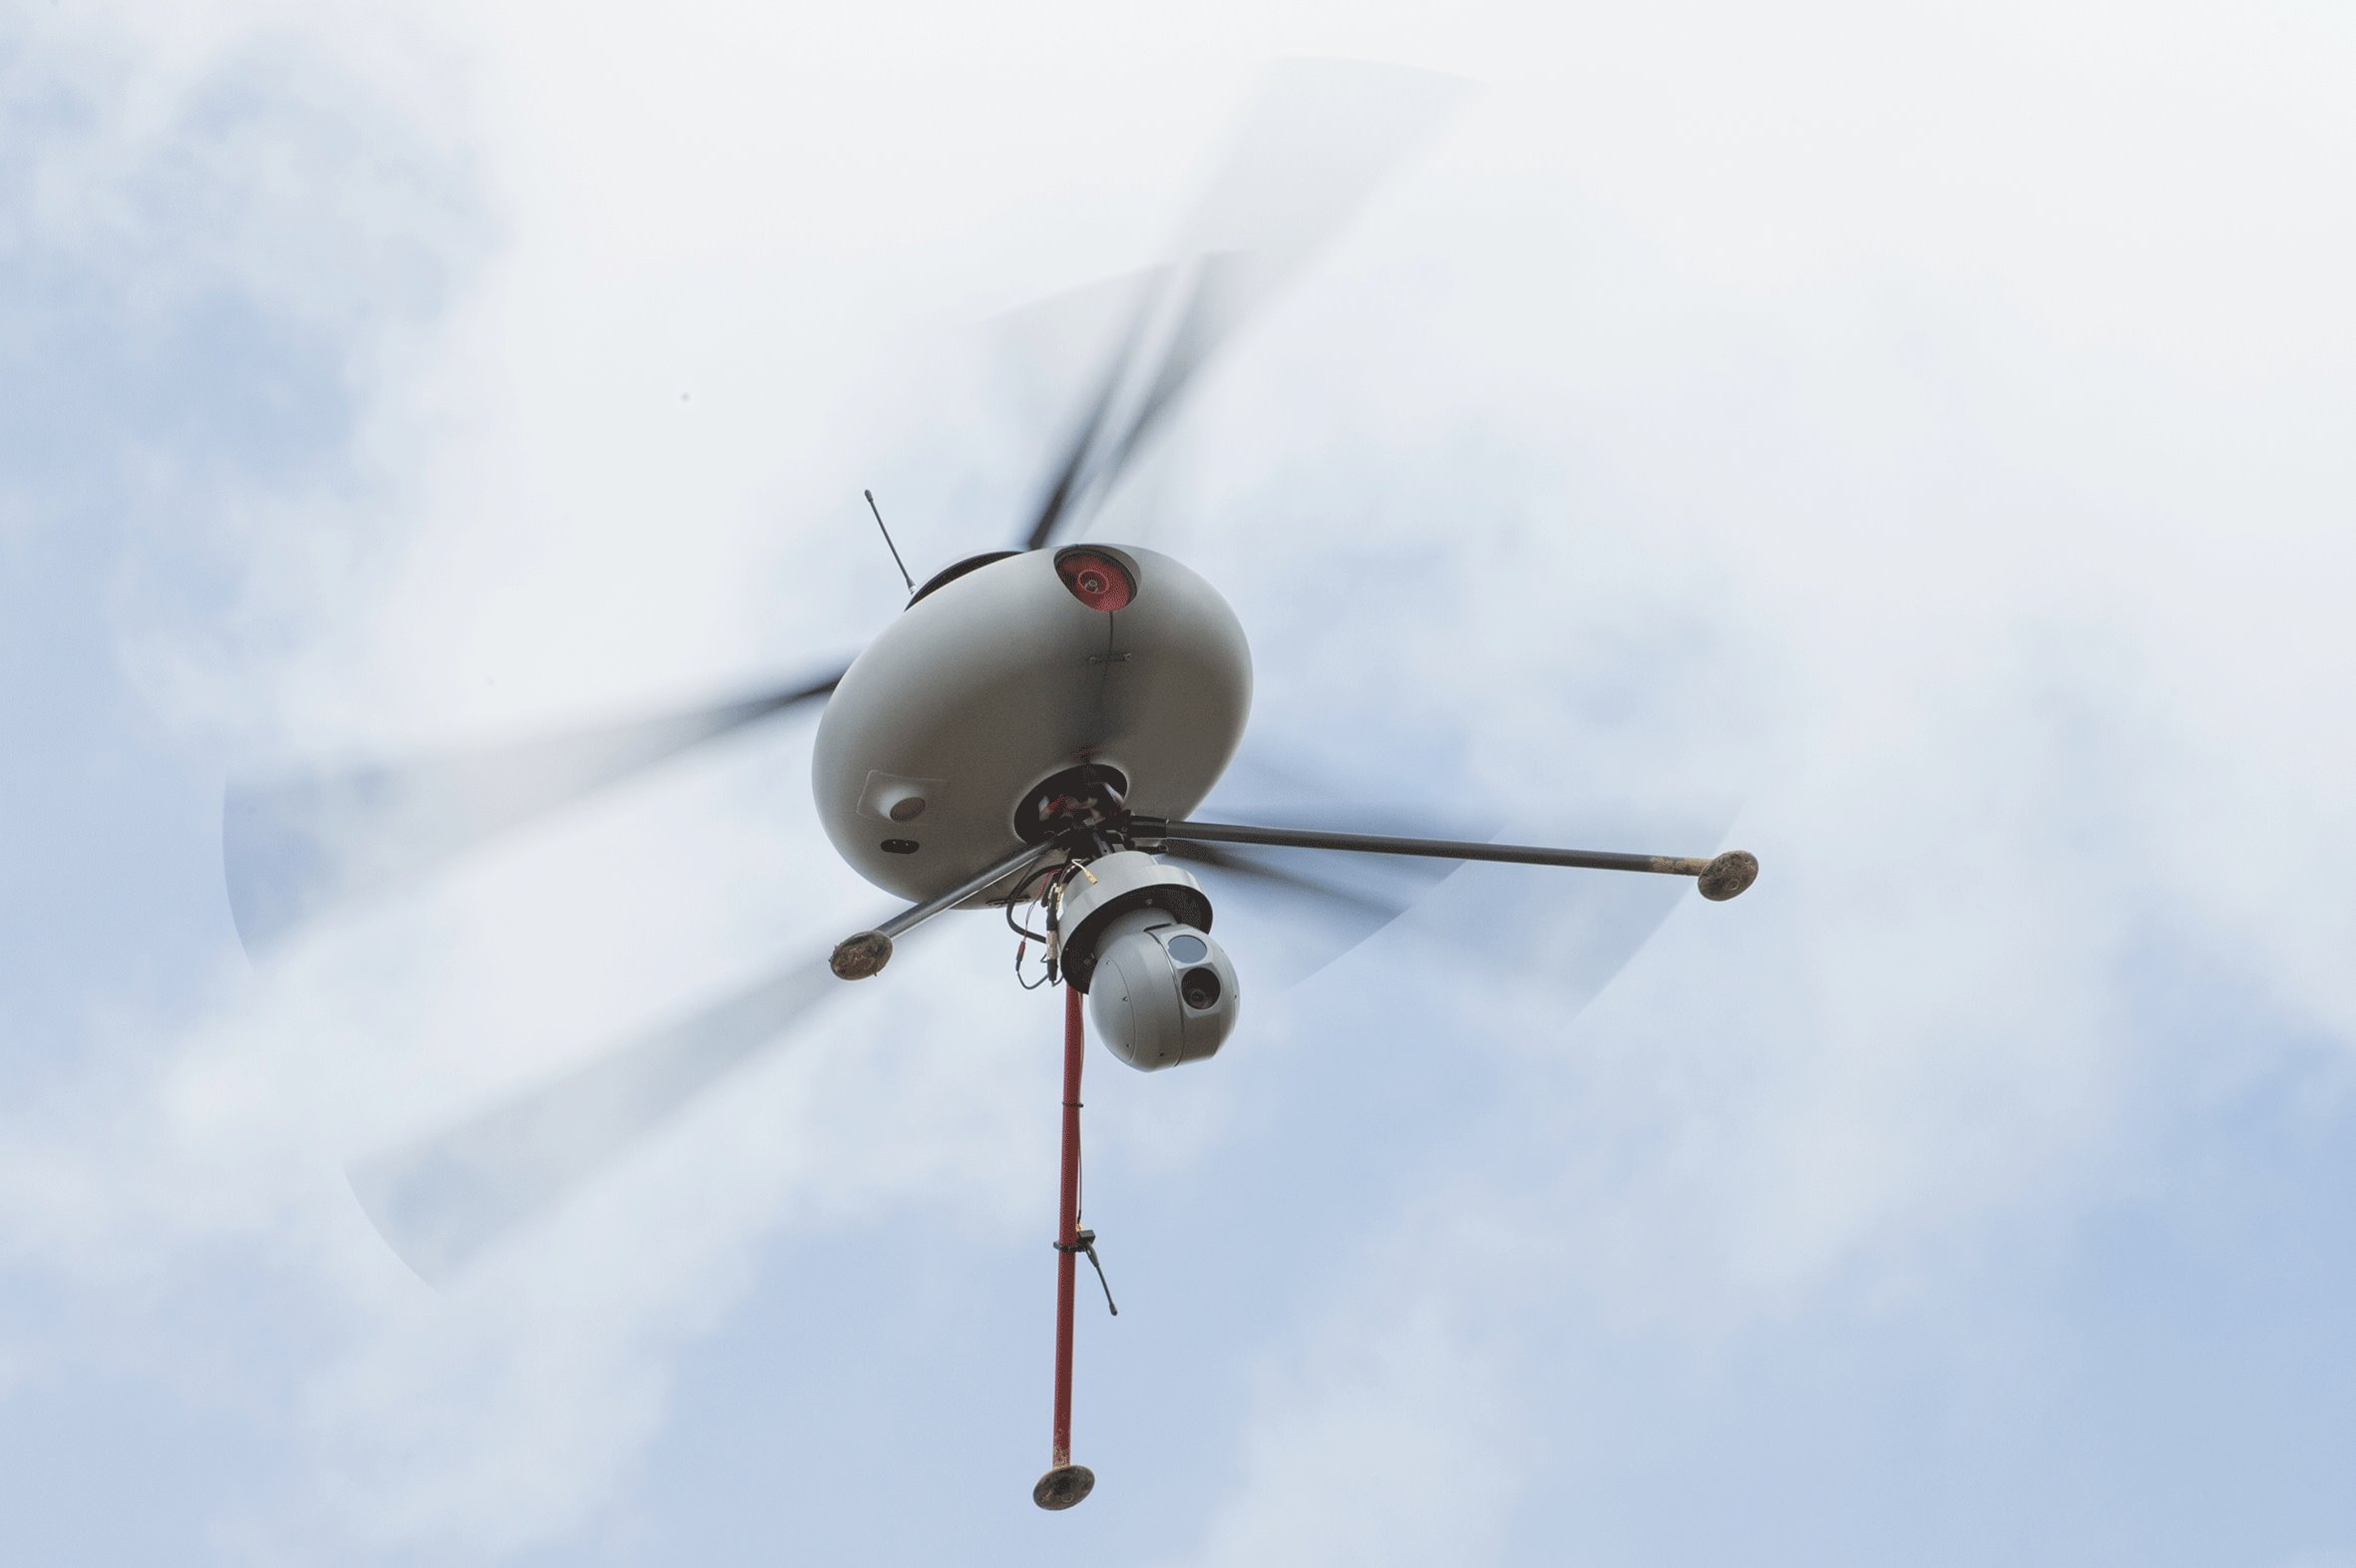drone: (219, 73, 1774, 1516)
